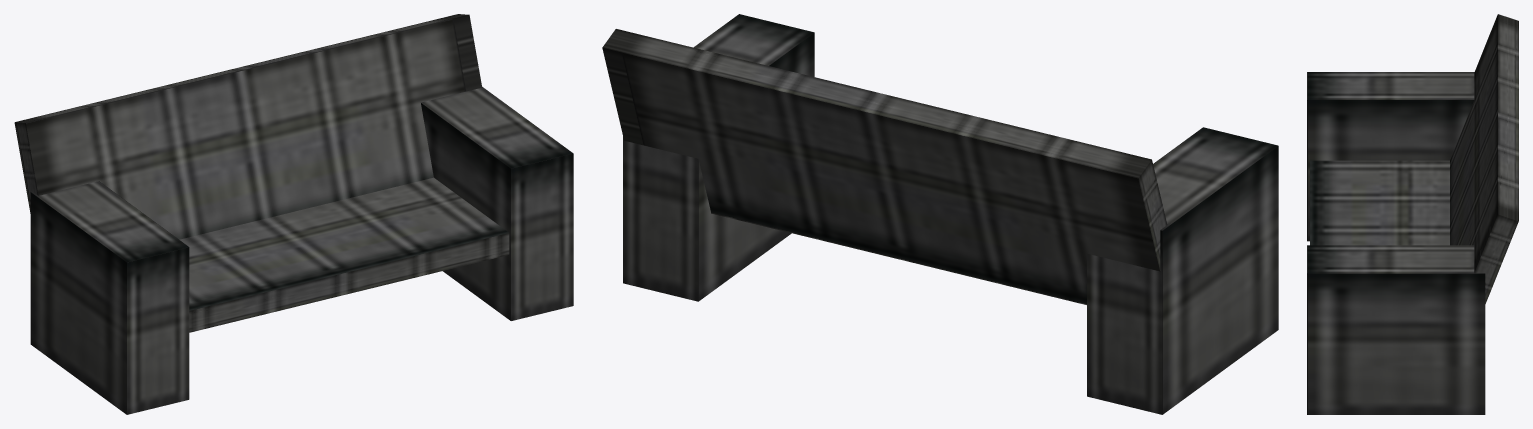
File: bench_parkblend.fbx
The picture shows the model from 3 angles, left to right: view 1: azimuth 30°, elevation 25°; view 2: azimuth 150°, elevation 25°; view 3: azimuth 270°, elevation 25°; orthographic projection. The views are drawn at different scales.
Parts seen in each view (by area): view 1: Cube.003; view 2: Cube.003; view 3: Cube.003.
Boxes of the visible parts, x1,y1,x2,y2 form: Cube.003: (14, 14, 573, 414); Cube.003: (602, 14, 1278, 414); Cube.003: (1307, 14, 1518, 414).
Bounding box in the file's own units: 429 × 198 × 190.
2 materials, 2 textured.
